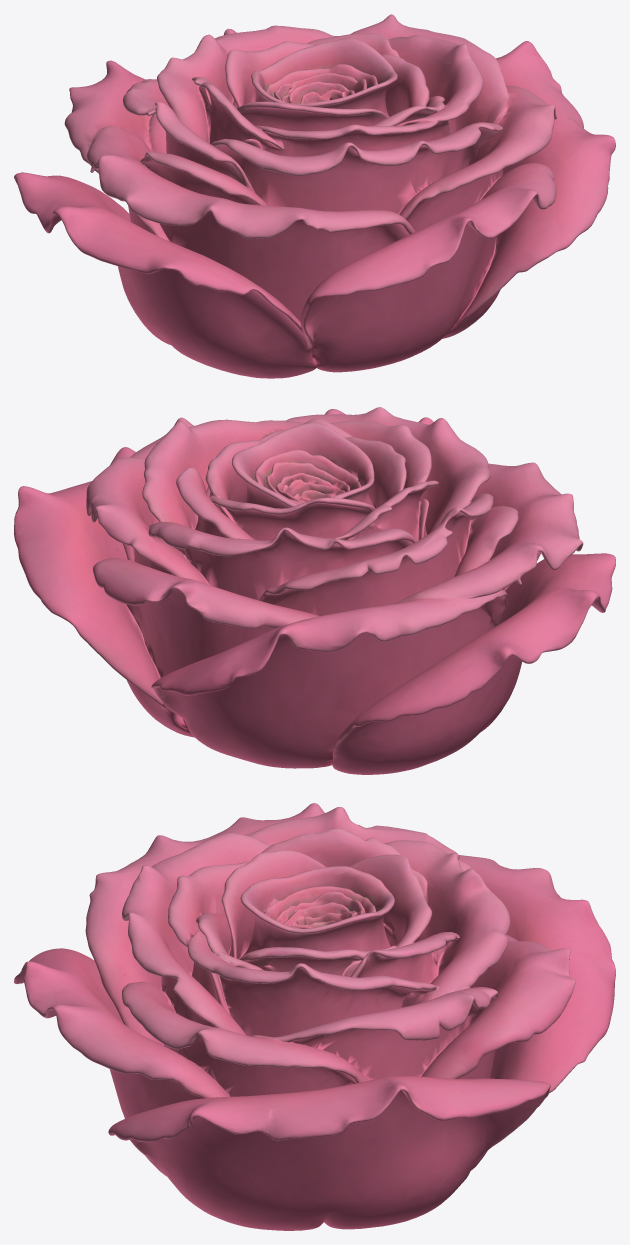
The model's file is Pink Rose no stem.glb.
The picture shows the model from 3 angles, top to bottom: view 1: azimuth 30°, elevation 25°; view 2: azimuth 150°, elevation 25°; view 3: azimuth 270°, elevation 25°; orthographic projection. The views are drawn at different scales.
Parts seen in each view (by area): view 1: tripo_node_de763aca-6c33-4856-a88d-0fec6b59b4d4; view 2: tripo_node_de763aca-6c33-4856-a88d-0fec6b59b4d4; view 3: tripo_node_de763aca-6c33-4856-a88d-0fec6b59b4d4.
Part boxes in pixels (<box>): tripo_node_de763aca-6c33-4856-a88d-0fec6b59b4d4: <box>14,14,615,378</box>; tripo_node_de763aca-6c33-4856-a88d-0fec6b59b4d4: <box>14,407,615,774</box>; tripo_node_de763aca-6c33-4856-a88d-0fec6b59b4d4: <box>14,803,615,1230</box>.
Bounding box in the file's own units: 0.9999 × 0.4708 × 0.8877.
1 material, 1 textured.
